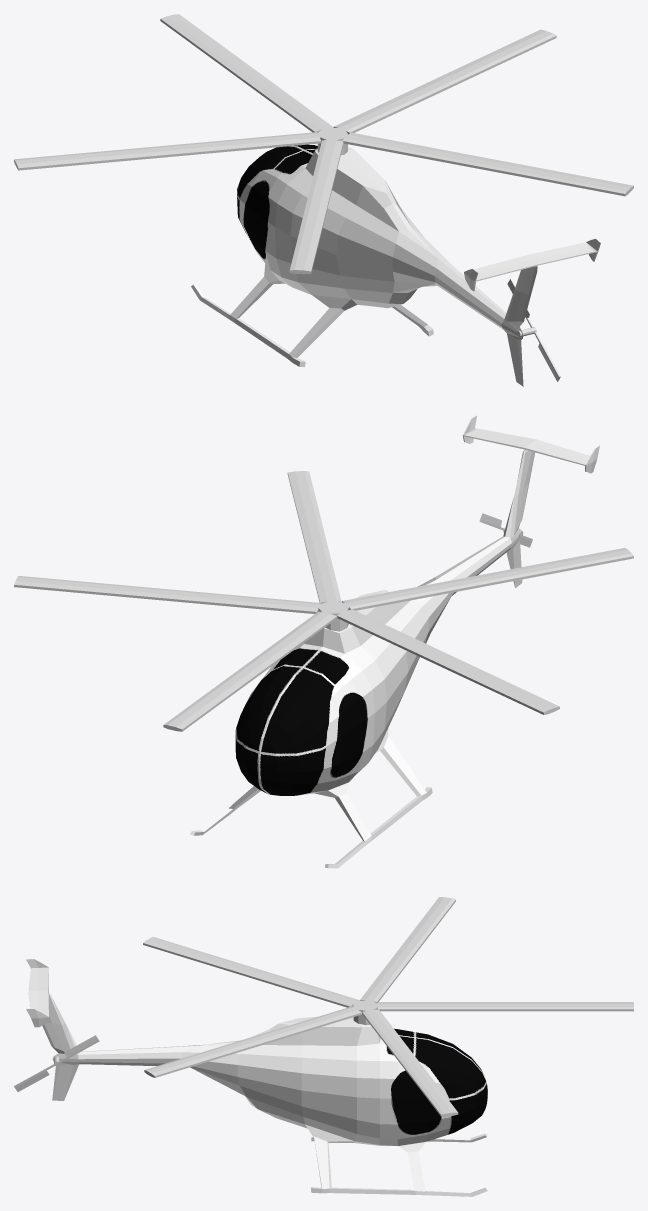
The model's file is Heli.gltf.
3 views of the same model, one above another, from view 1: azimuth 30°, elevation 25°; view 2: azimuth 150°, elevation 25°; view 3: azimuth 270°, elevation 25° (orthographic). The views are drawn at different scales.
Visible parts, largest first — view 1: HeliBody, MainRotor, TailRotor; view 2: HeliBody, MainRotor; view 3: HeliBody, MainRotor, TailRotor.
Boxes of the visible parts, x1,y1,x2,y2 form: HeliBody: (191, 144, 600, 386); MainRotor: (14, 14, 633, 274); TailRotor: (507, 278, 560, 381); HeliBody: (190, 415, 599, 868); MainRotor: (14, 471, 633, 731); HeliBody: (26, 959, 487, 1196); MainRotor: (143, 897, 633, 1116); TailRotor: (14, 1035, 99, 1091).
Size of the model in its own units: 10.2 by 4.04 by 12.27.
1 material, 1 textured.
